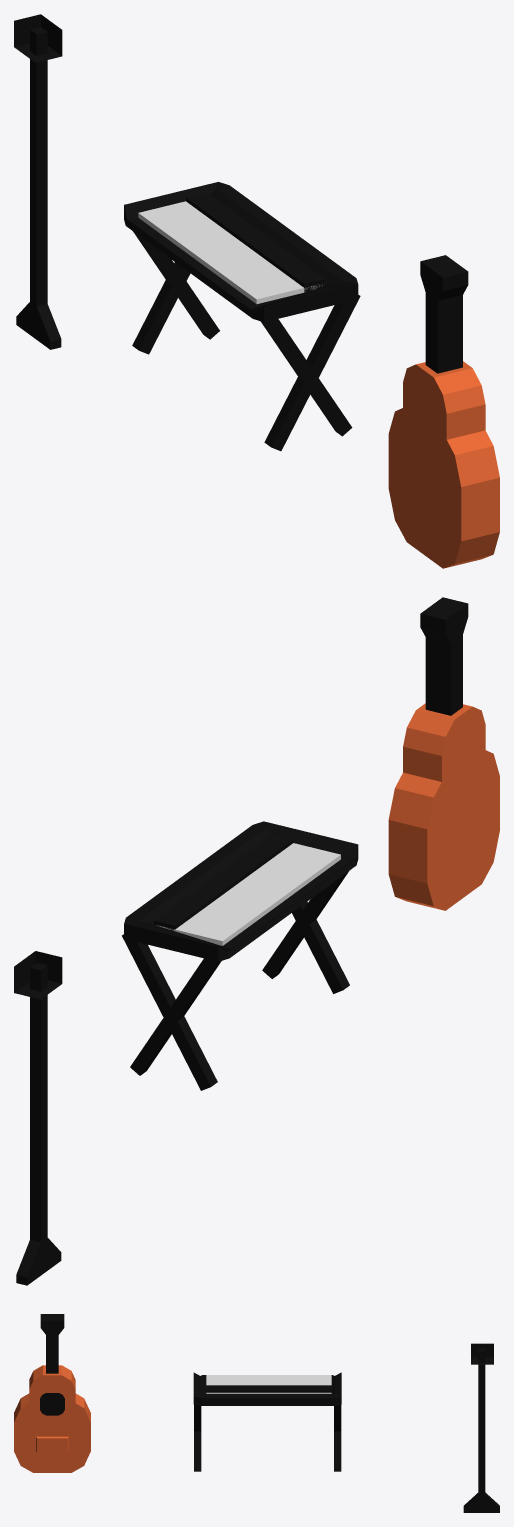
File: Busker Instruments.fbx
3 views of the same model, one above another, from view 1: azimuth 30°, elevation 25°; view 2: azimuth 150°, elevation 25°; view 3: azimuth 270°, elevation 25° (orthographic). The views are drawn at different scales.
Visible parts, largest first — view 1: Cube, Cube.003, Cube.010, Cube.004, Cube.001, Cube.002, Cube.005, Cube.008, Cube.009, Cube.006, Cube.007; view 2: Cube, Cube.003, Cube.010, Cube.004, Cube.001, Cube.002, Cube.005, Cube.007, Cube.006, Cube.009, Cube.008; view 3: Cube, Cube.003, Cube.010, Cube.004, Cube.001, Cube.005, Cube.002, Plane, Cube.006, Cube.009.
Part boxes in pixels (x1,y1,x2,y2): Cube: (388,405,499,568); Cube.003: (124,182,358,322); Cube.010: (14,14,62,349); Cube.004: (138,201,322,304); Cube.001: (403,361,485,462); Cube.002: (420,255,468,373); Cube.005: (186,192,325,292); Cube.008: (264,295,360,451); Cube.009: (261,319,352,436); Cube.006: (133,231,219,339); Cube.007: (132,262,190,354); Cube: (388,747,499,910); Cube.003: (124,821,358,961); Cube.010: (14,951,62,1285); Cube.004: (156,843,340,945); Cube.001: (403,703,485,793); Cube.002: (420,597,468,715); Cube.005: (154,834,293,930); Cube.007: (122,934,217,1090); Cube.006: (130,958,221,1075); Cube.009: (262,853,348,978); Cube.008: (292,901,349,993); Cube: (14,1393,90,1472); Cube.003: (193,1372,341,1405); Cube.010: (463,1343,499,1512); Cube.004: (206,1375,331,1393); Cube.001: (29,1365,75,1419); Cube.005: (206,1385,331,1392); Cube.002: (40,1314,64,1373); Plane: (40,1393,64,1415); Cube.006: (334,1378,341,1471); Cube.009: (194,1378,201,1471).
Size of the model in its own units: 200 by 674 by 1531.
